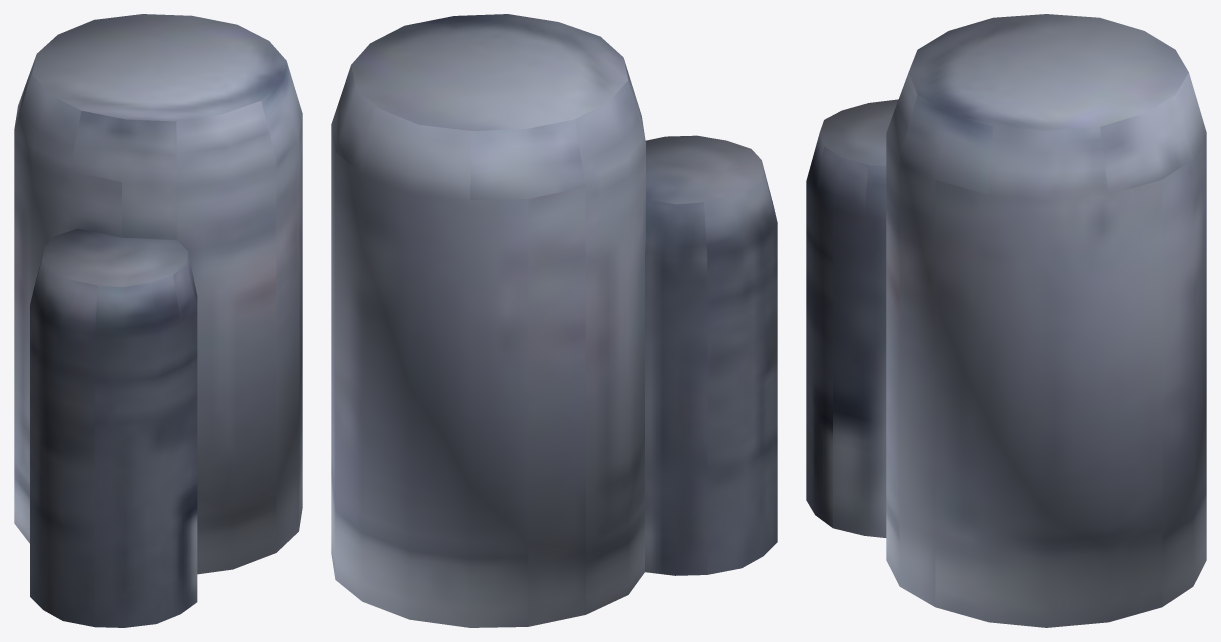
The model's file is 整備庫_19_雙聯儲槽.glb.
3 renders of one model, left to right at view 1: azimuth 30°, elevation 25°; view 2: azimuth 150°, elevation 25°; view 3: azimuth 270°, elevation 25°, orthographic. The views are drawn at different scales.
Visible parts, largest first — view 1: 19_雙聯儲槽; view 2: 19_雙聯儲槽; view 3: 19_雙聯儲槽.
Part boxes in pixels (left/top/right/bottom): 19_雙聯儲槽: left=14, top=14, right=302, bottom=627; 19_雙聯儲槽: left=331, top=14, right=777, bottom=627; 19_雙聯儲槽: left=806, top=14, right=1206, bottom=627.
Bounding box in the file's own units: 0.043 × 0.0591 × 0.0439.
Materials: 1 (1 with a texture image).
